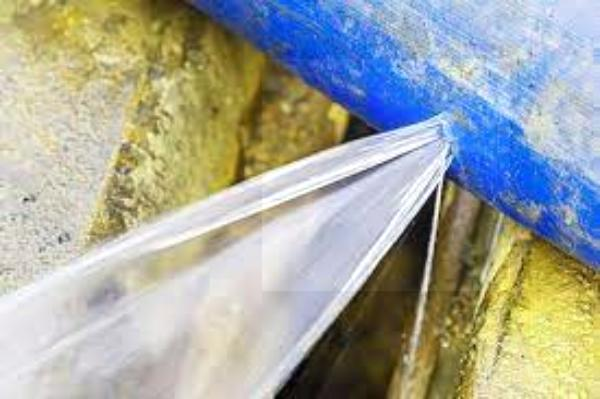pipe burst: (0, 106, 469, 399)
